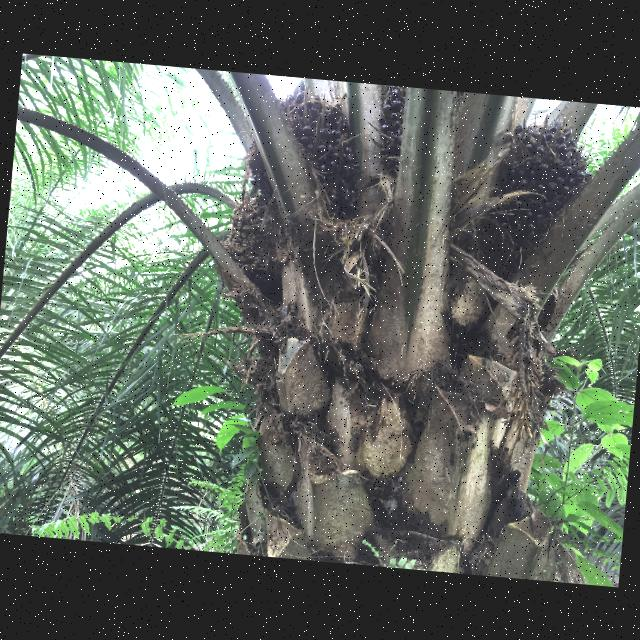Unripe: (490, 124, 594, 269), (287, 88, 357, 214), (381, 91, 407, 174)
